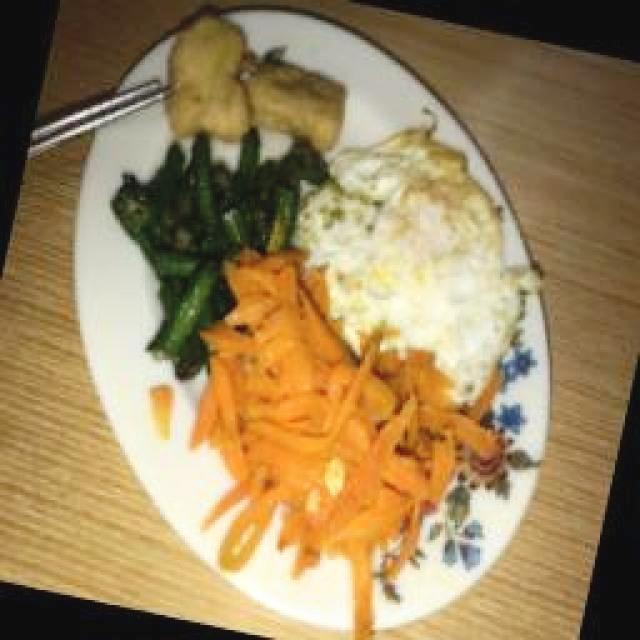carrot_eggs: (179, 250, 497, 612)
chicken_nuggets: (166, 15, 255, 139), (246, 51, 350, 147)
fried_eggs: (301, 129, 513, 405)
water_spinach: (119, 132, 302, 359)
